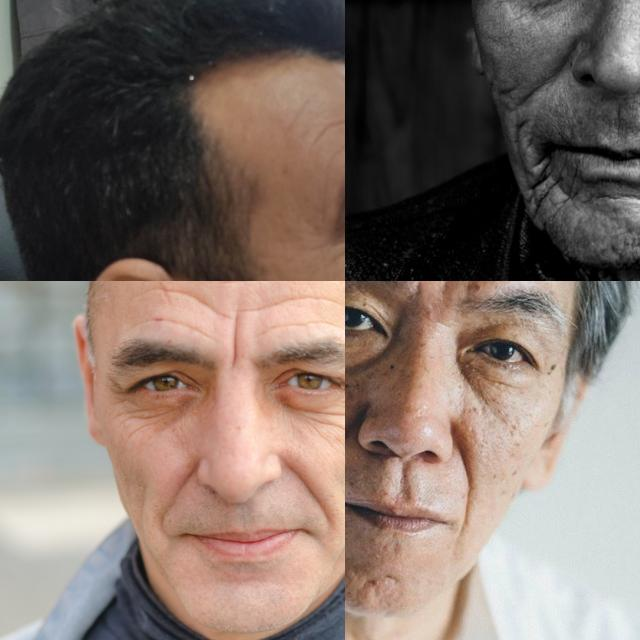chin: (528, 166, 562, 218)
crows_feet: (107, 372, 131, 404), (326, 229, 345, 269)
forehead: (150, 281, 206, 307), (153, 312, 209, 338), (251, 286, 309, 310), (314, 105, 345, 138), (276, 314, 324, 332), (220, 281, 247, 288)
frown_line: (224, 317, 243, 363)
gummy_smile: (453, 434, 482, 511), (290, 461, 322, 509), (518, 61, 548, 109), (170, 463, 198, 497), (345, 419, 352, 487)
sad_smile: (507, 120, 533, 166)
smoker_lines: (609, 106, 627, 142)
